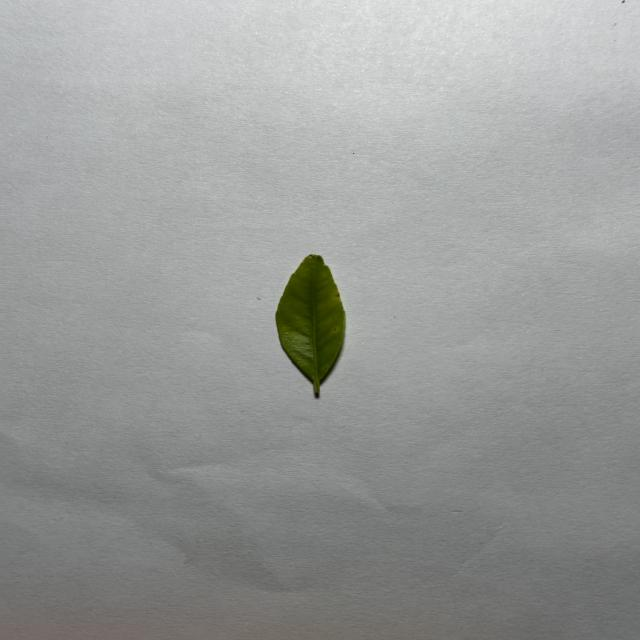greening: (276, 255, 345, 393)
